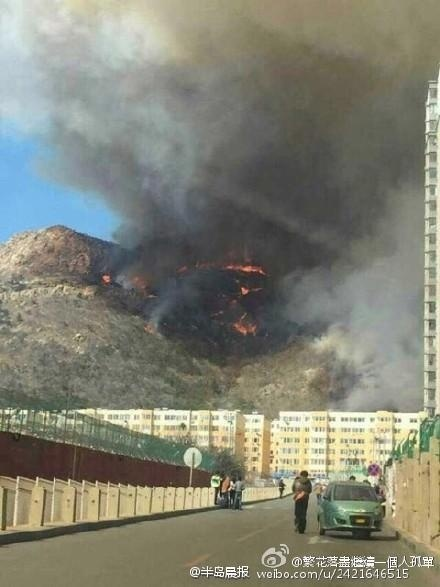fire: (232, 316, 256, 334)
